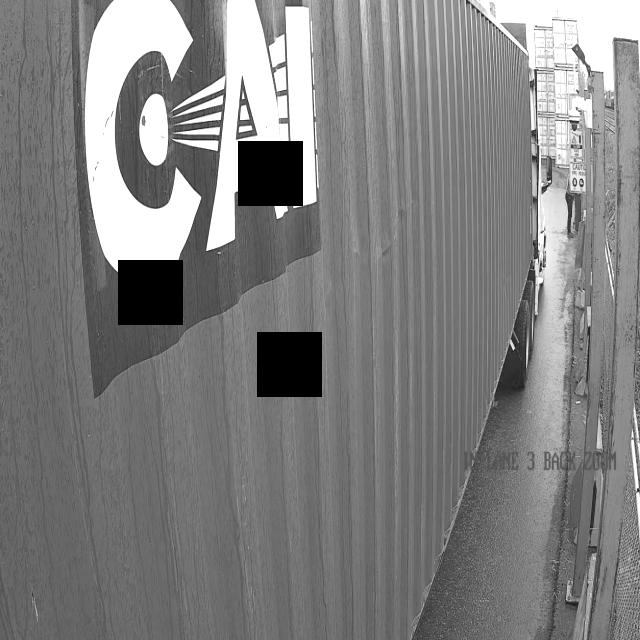container_company_logo: (60, 8, 397, 320)
truck_with_container: (0, 0, 543, 640)
